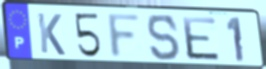1: (225, 16, 246, 65)
5: (73, 12, 102, 59)
E: (180, 16, 222, 63)
F: (106, 12, 143, 60)
K: (35, 11, 67, 57)
S: (146, 13, 182, 63)
